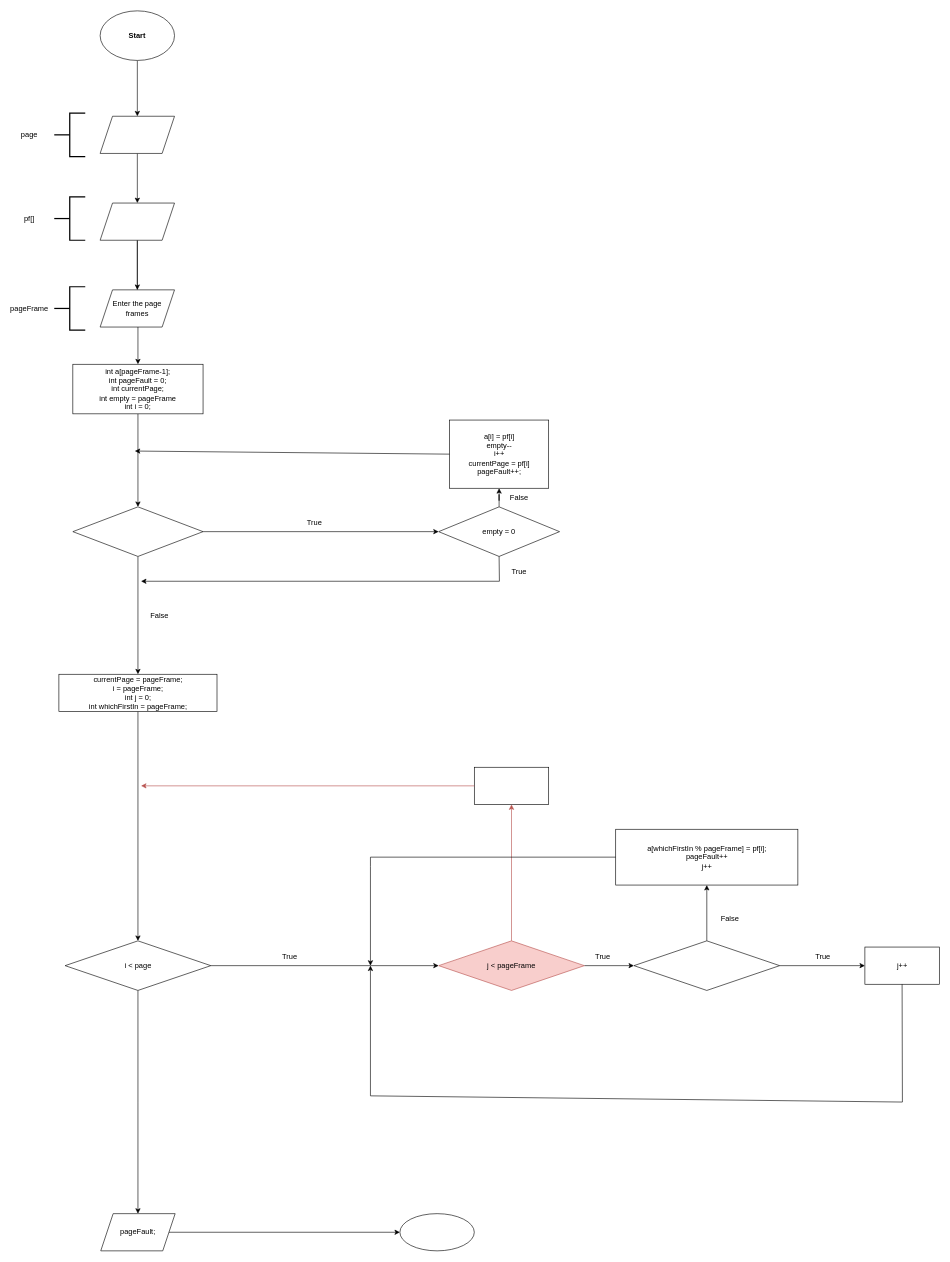
The diagram is 950 pixels wide and 1262 high, and some of its shapes have lost their labels. Each missing label, with the centre of its shape:
a[j] = pf[i]: [706,965]
End: [436,1232]
Enter page reference strings: [137,221]
Enter the number of page: [137,134]
i < pageFrame: [137,531]
i++: [511,785]
